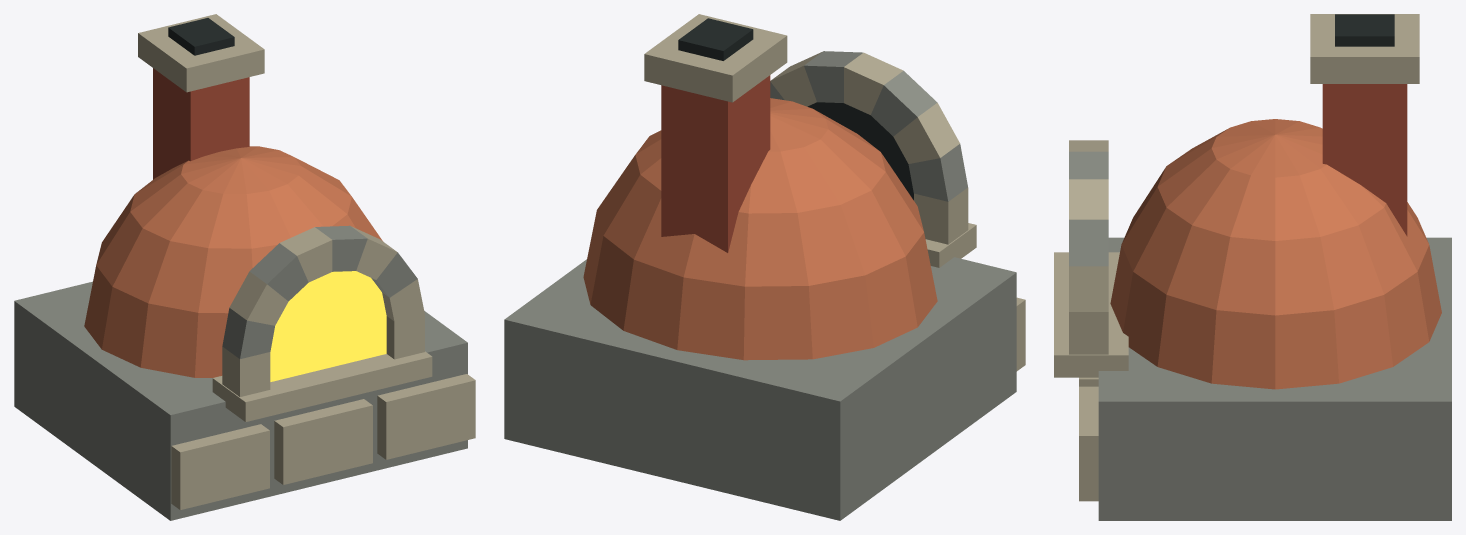
File: oven.glb
3 renders of one model, left to right at view 1: azimuth 30°, elevation 25°; view 2: azimuth 150°, elevation 25°; view 3: azimuth 270°, elevation 25°, orthographic. The views are drawn at different scales.
Visible parts, largest first — view 1: Terracotta_oven_dome, Oven_stone_plinth, running_fire, Oven_chimney, Oven_mouth_sill, Oven_front_foundation_stone.002, Oven_front_foundation_stone, Oven_front_foundation_stone.001, Oven_chimney_cap, Oven_arch_pier, Oven_arch_stone.006, Oven_arch_stone.005 (+8 smaller); view 2: Oven_stone_plinth, Terracotta_oven_dome, Oven_chimney, Oven_chimney_cap, idle_mouth, Oven_arch_stone.006, Oven_arch_stone.005, Oven_arch_stone.007, Oven_arch_stone.004, Oven_arch_pier, Oven_chimney_flue, Oven_arch_stone.003 (+3 smaller); view 3: Terracotta_oven_dome, Oven_stone_plinth, Oven_chimney, Oven_chimney_cap, Oven_mouth_sill, Oven_front_foundation_stone.002, Oven_chimney_flue, Oven_arch_stone.001, Oven_arch_stone, Oven_arch_pier.001, Oven_arch_stone.002, Oven_arch_stone.003 (+1 smaller).
Boxes of the visible parts, x1,y1,x2,y2 form: Terracotta_oven_dome: [84, 146, 382, 377]; Oven_stone_plinth: [14, 281, 467, 520]; running_fire: [270, 271, 386, 381]; Oven_chimney: [153, 68, 249, 179]; Oven_mouth_sill: [212, 351, 432, 421]; Oven_front_foundation_stone.002: [377, 374, 475, 459]; Oven_front_foundation_stone: [171, 424, 269, 510]; Oven_front_foundation_stone.001: [274, 399, 372, 484]; Oven_chimney_cap: [138, 14, 264, 92]; Oven_arch_pier: [222, 346, 270, 396]; Oven_arch_stone.006: [229, 271, 288, 325]; Oven_arch_stone.005: [249, 243, 308, 301]; Oven_stone_plinth: [504, 257, 1016, 520]; Terracotta_oven_dome: [583, 98, 937, 360]; Oven_chimney: [661, 75, 770, 252]; Oven_chimney_cap: [644, 14, 787, 102]; idle_mouth: [807, 102, 913, 200]; Oven_arch_stone.006: [893, 103, 959, 163]; Oven_arch_stone.005: [871, 70, 937, 136]; Oven_arch_stone.007: [908, 144, 967, 201]; Oven_arch_stone.004: [844, 52, 903, 114]; Oven_arch_pier: [914, 187, 968, 244]; Oven_chimney_flue: [678, 18, 753, 60]; Oven_arch_stone.003: [804, 51, 862, 102]; Terracotta_oven_dome: [1110, 119, 1441, 389]; Oven_stone_plinth: [1098, 237, 1451, 520]; Oven_chimney: [1322, 84, 1407, 236]; Oven_chimney_cap: [1310, 14, 1419, 83]; Oven_mouth_sill: [1054, 252, 1128, 377]; Oven_front_foundation_stone.002: [1079, 386, 1098, 501]; Oven_chimney_flue: [1335, 14, 1394, 46]; Oven_arch_stone.001: [1069, 219, 1108, 266]; Oven_arch_stone: [1069, 266, 1108, 311]; Oven_arch_pier.001: [1069, 312, 1108, 354]; Oven_arch_stone.002: [1069, 179, 1108, 219]; Oven_arch_stone.003: [1069, 151, 1108, 179].
Size of the model in its own units: 1.56 by 1.83 by 1.6.
